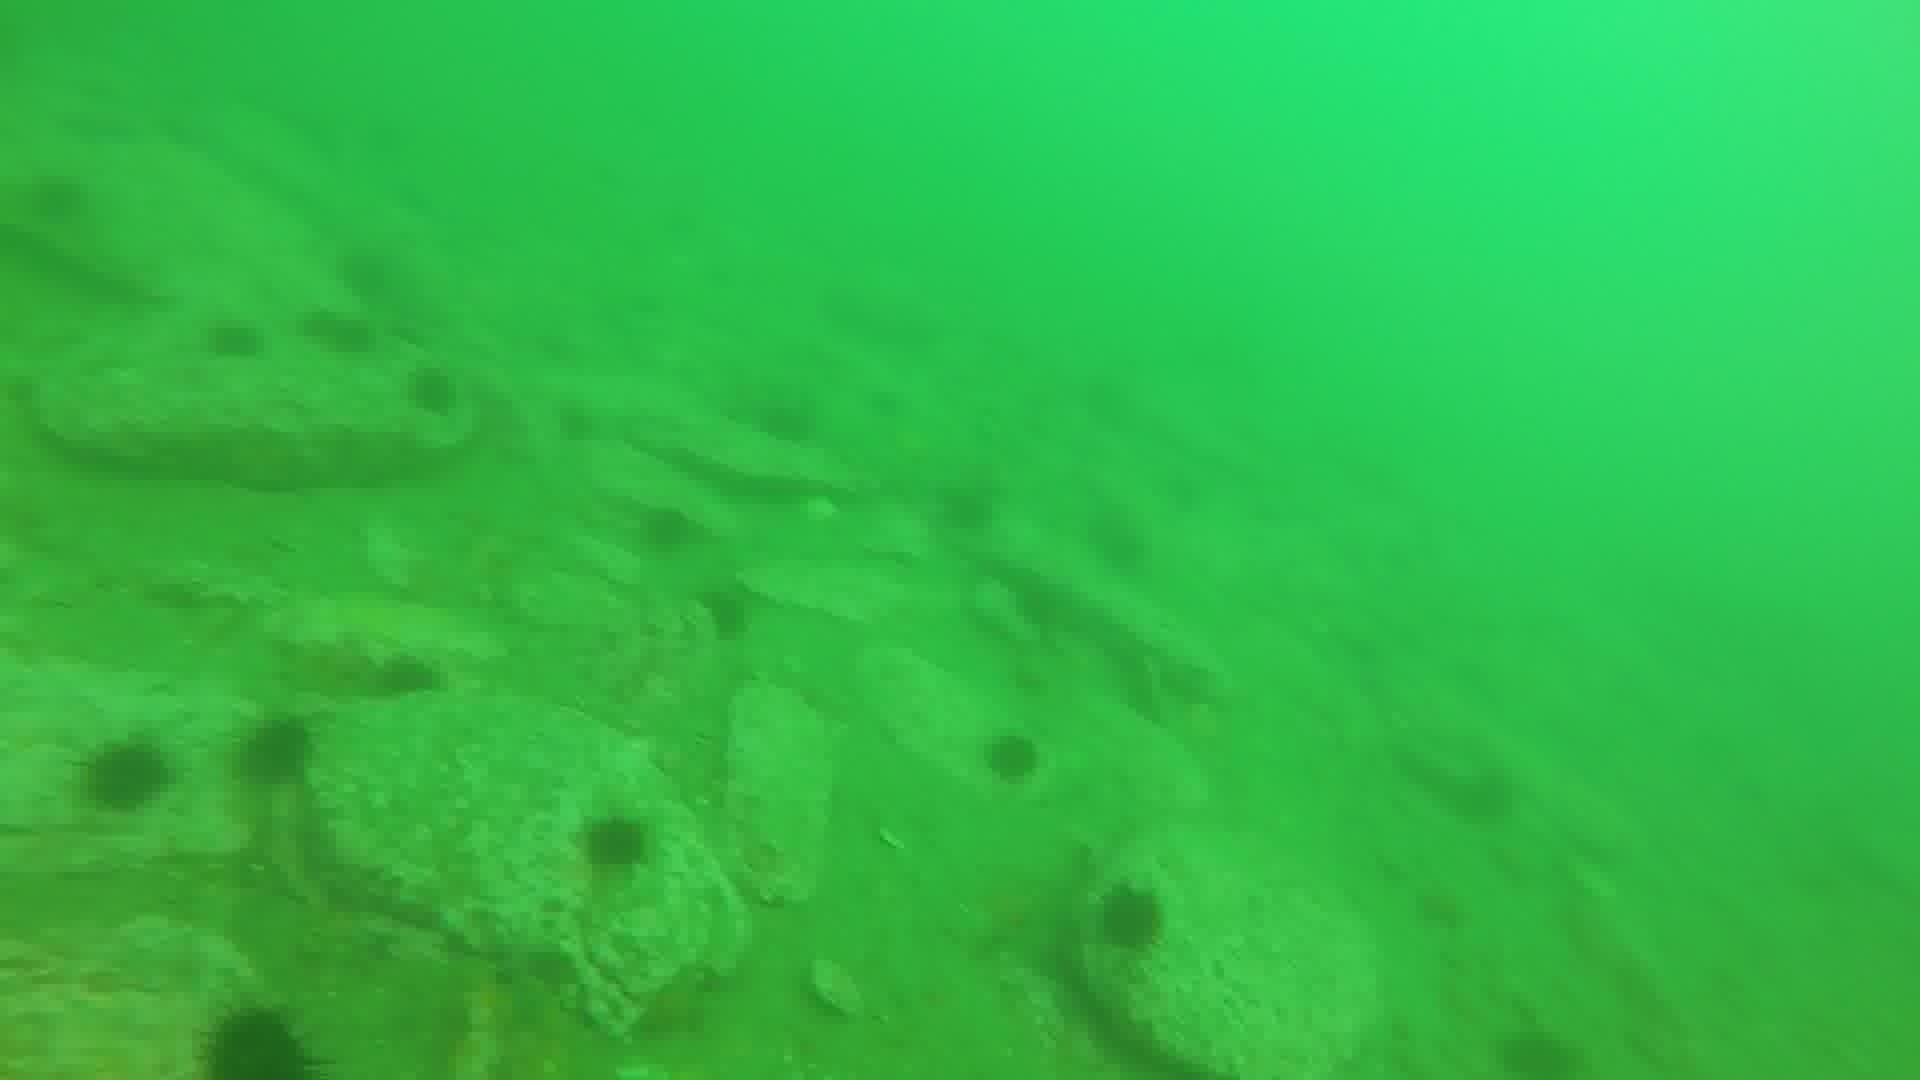echinus: (196, 1002, 320, 1076), (76, 735, 175, 818), (232, 711, 320, 791), (1092, 880, 1170, 957), (574, 807, 657, 880), (1491, 1022, 1585, 1080), (1081, 501, 1153, 576), (1443, 762, 1520, 829), (297, 303, 378, 361), (930, 475, 1004, 538), (332, 241, 401, 305), (369, 649, 446, 705), (978, 727, 1046, 789), (632, 501, 702, 560), (752, 392, 822, 450), (694, 582, 757, 644), (199, 313, 268, 367), (401, 363, 464, 419), (1408, 884, 1470, 935)
